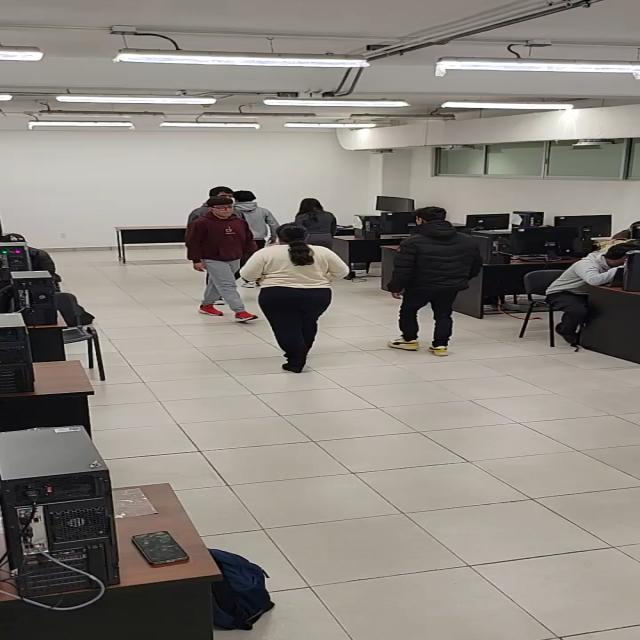Persona: (238, 222, 352, 374), (386, 206, 484, 358), (185, 196, 261, 324), (232, 188, 279, 248), (184, 184, 237, 235), (292, 198, 339, 250)
